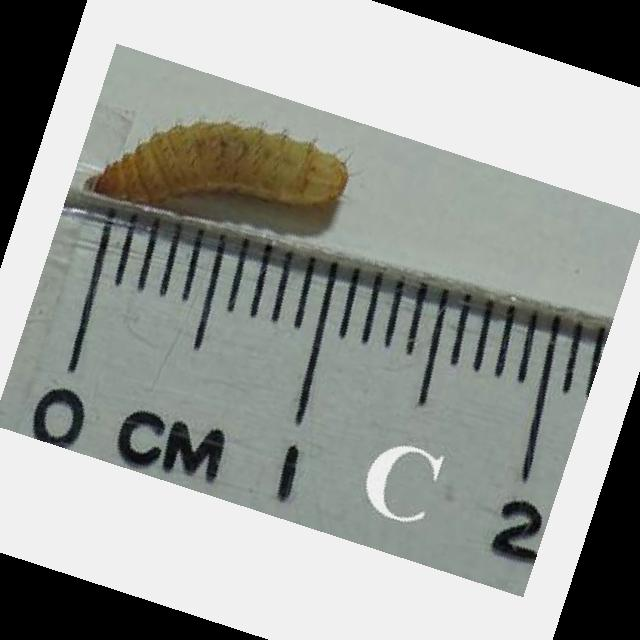Maggot: (80, 110, 356, 210)
